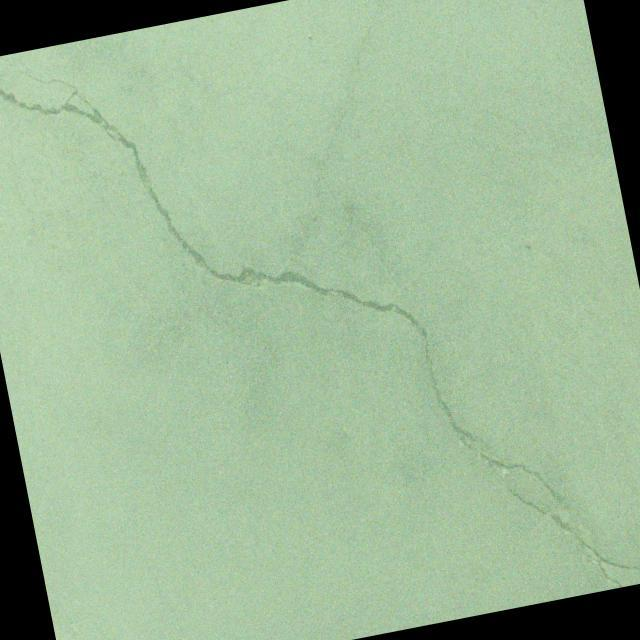crack: (0, 0, 575, 615), (506, 462, 640, 605)
